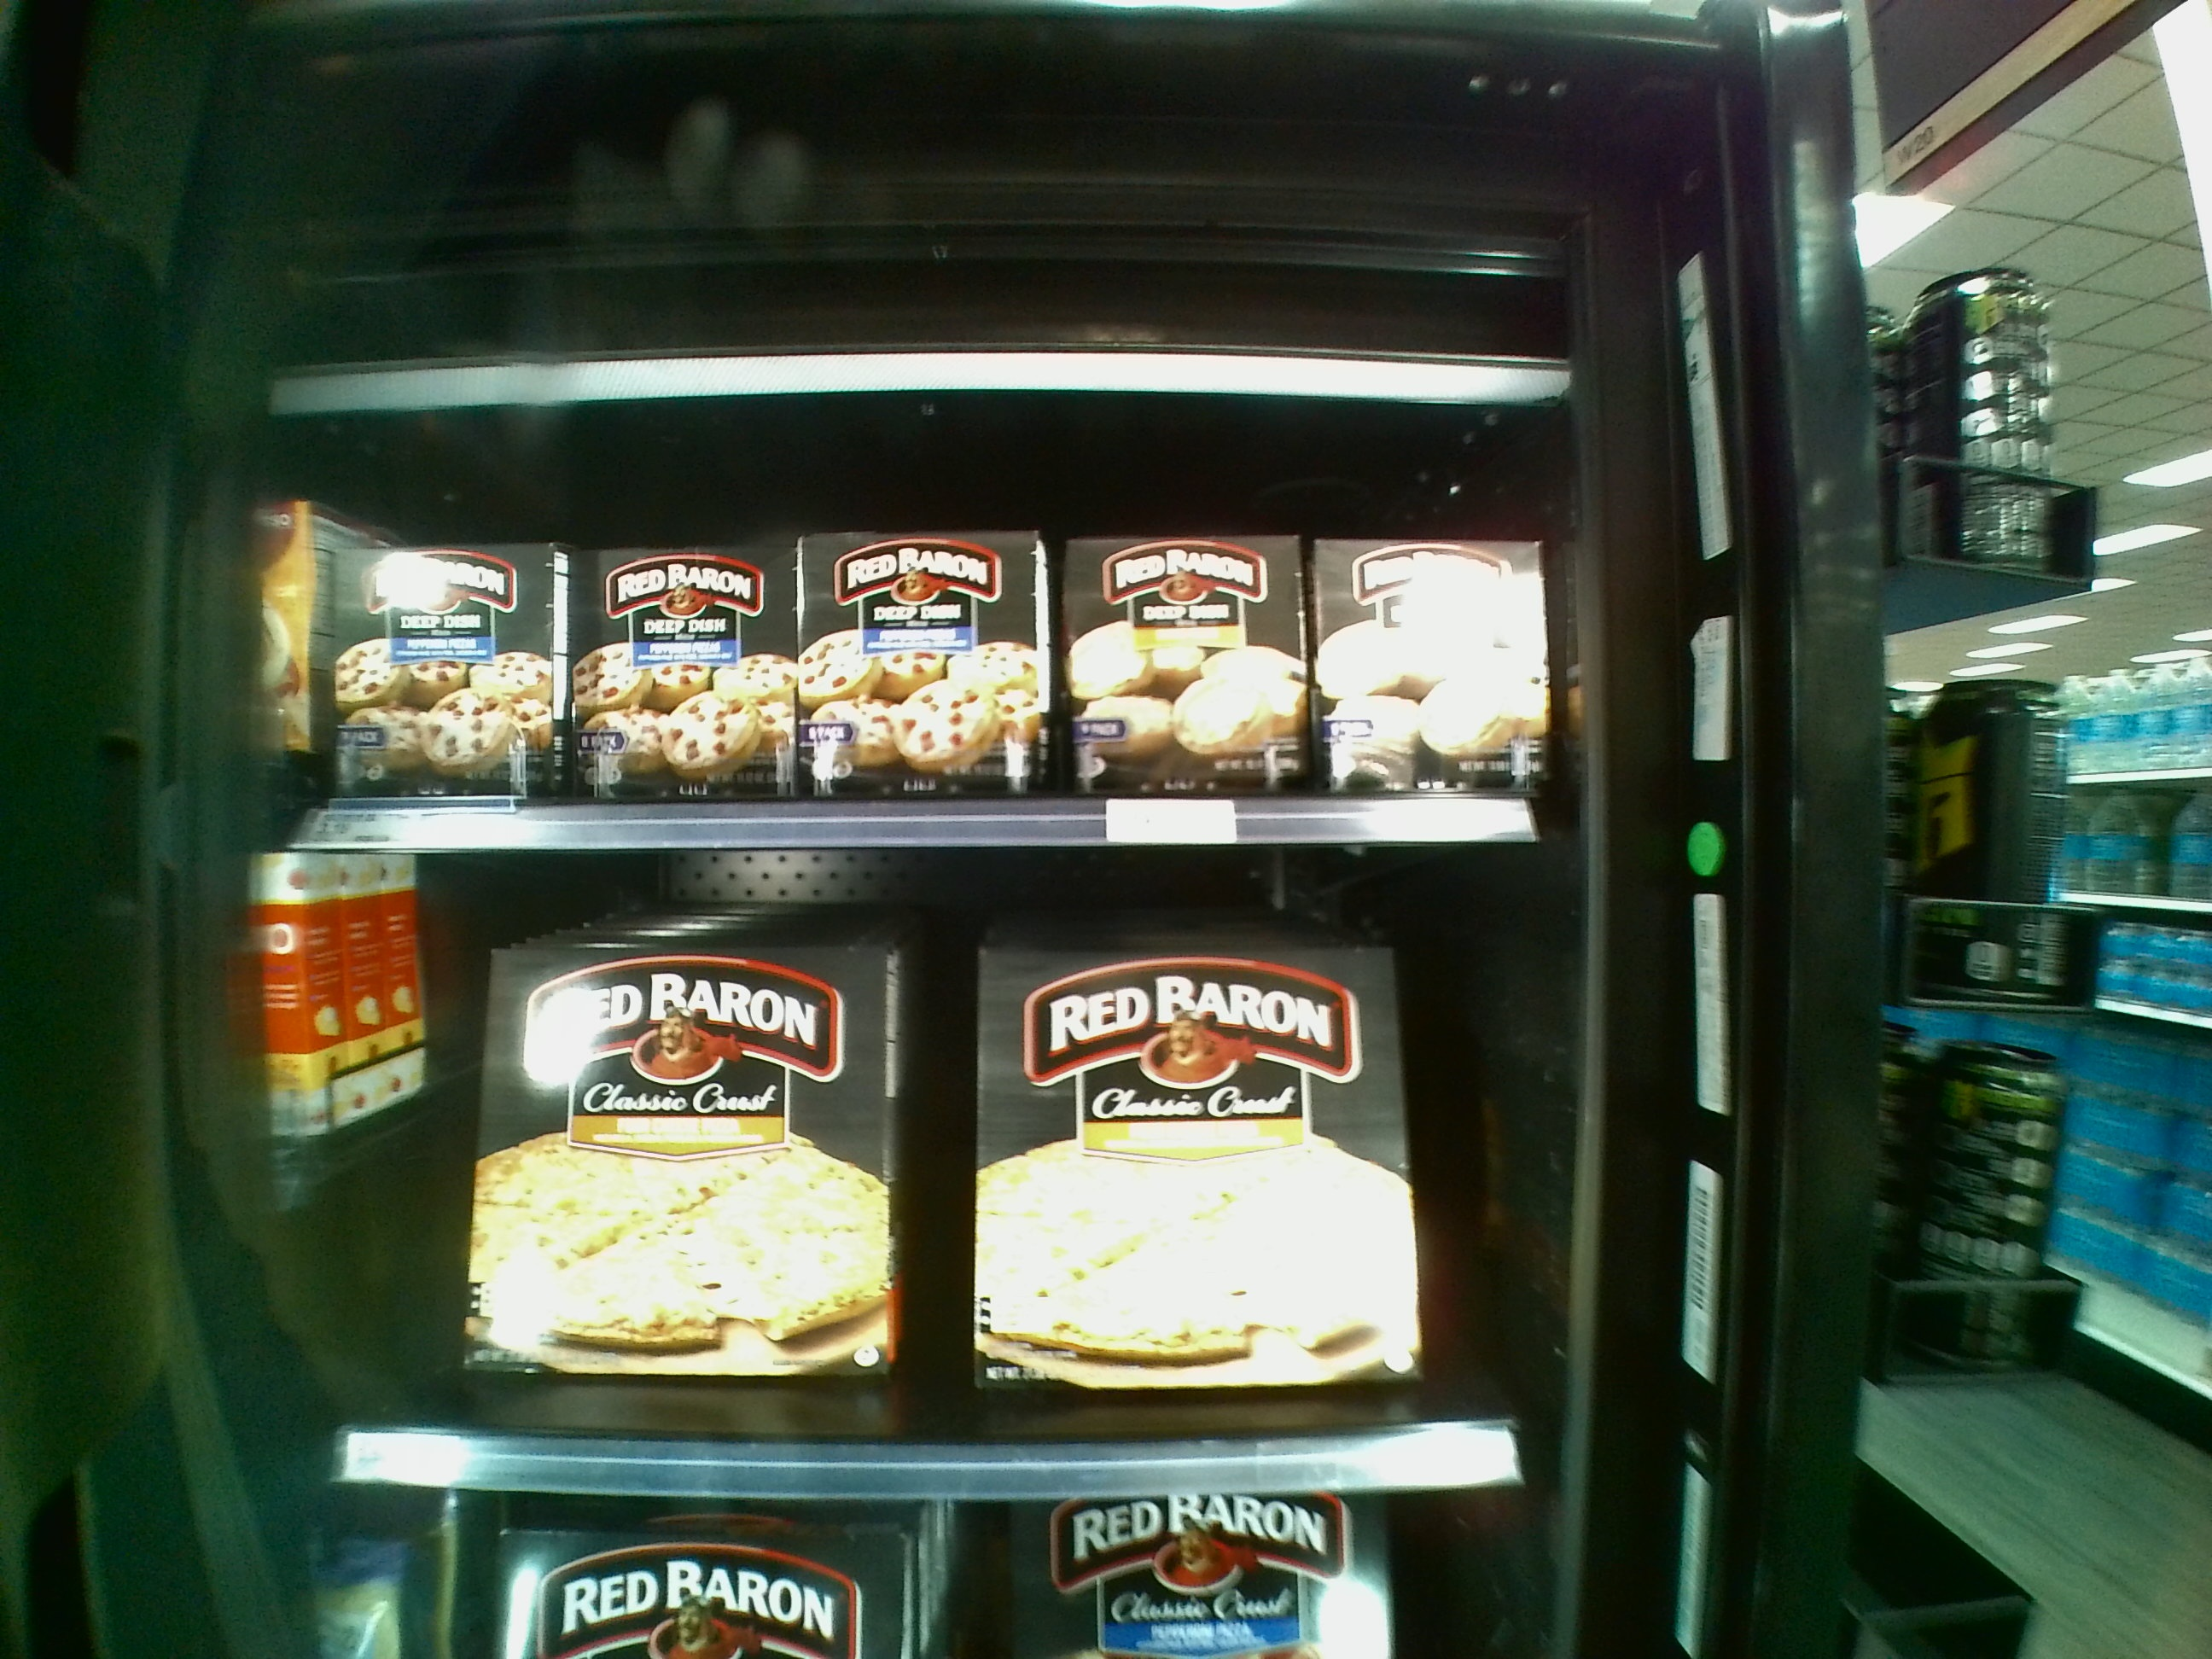shelf: (301, 850, 1527, 1495), (296, 373, 1557, 852)
